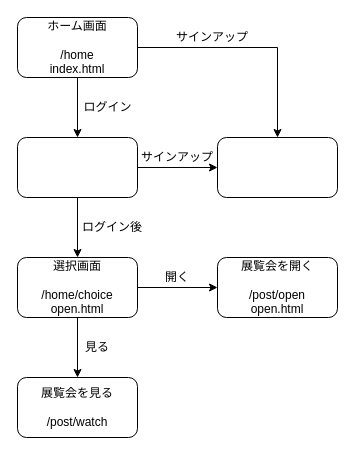
Image size: 355x455. Some labels were removed from this diagram. Each missing label, with the box of its shape:
アカウント作成 /account/signup signup.html: (216, 136, 338, 198)
ログイン画面 /account/login login.html: (16, 136, 138, 198)
